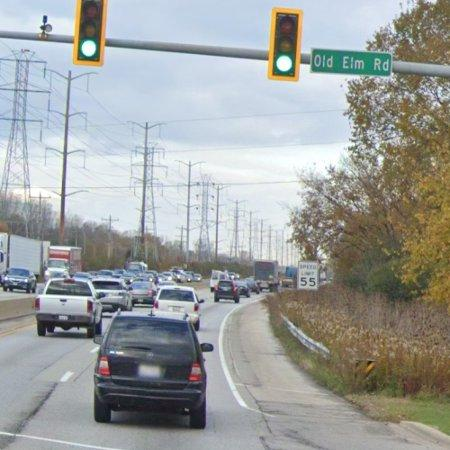traffic lights: (73, 0, 107, 66)
